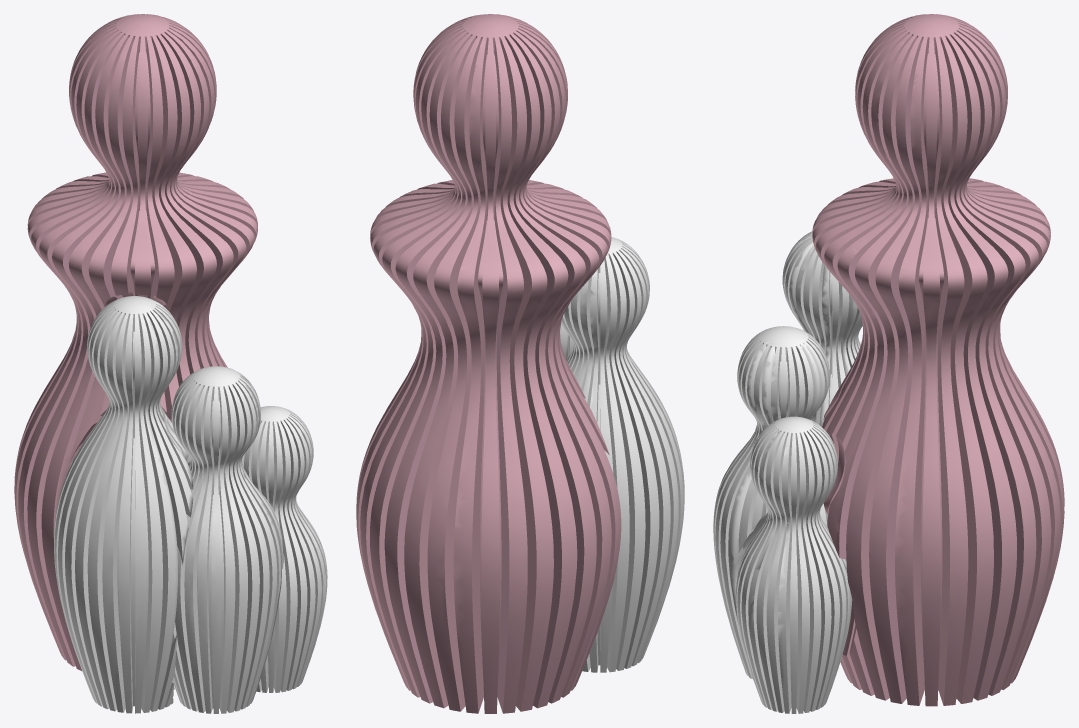
The model's file is mom3c_Optimized.glb.
3 renders of one model, left to right at view 1: azimuth 30°, elevation 25°; view 2: azimuth 150°, elevation 25°; view 3: azimuth 270°, elevation 25°, orthographic. The views are drawn at different scales.
Visible parts, largest first — view 1: Mom, Child1, Child2, Child3; view 2: Mom, Child1; view 3: Mom, Child3, Child2, Child1.
Part boxes in pixels (<box>): Mom: <box>14,14,257,670</box>; Child1: <box>54,296,193,713</box>; Child2: <box>171,366,283,713</box>; Child3: <box>242,406,327,692</box>; Mom: <box>356,14,621,713</box>; Child1: <box>561,237,684,672</box>; Mom: <box>812,14,1064,706</box>; Child3: <box>735,416,852,713</box>; Child2: <box>713,326,829,679</box>; Child1: <box>755,231,862,430</box>.
Bounding box in the file's own units: 0.0516 × 0.13 × 0.0638.
